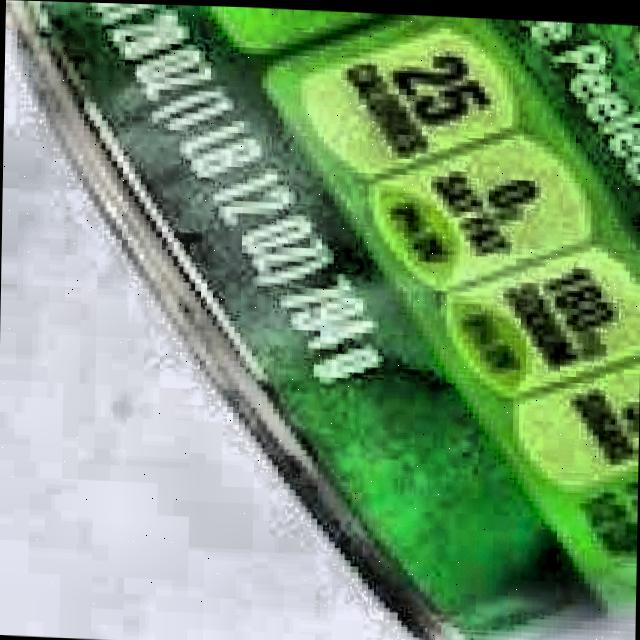metal: (5, 0, 640, 640)
